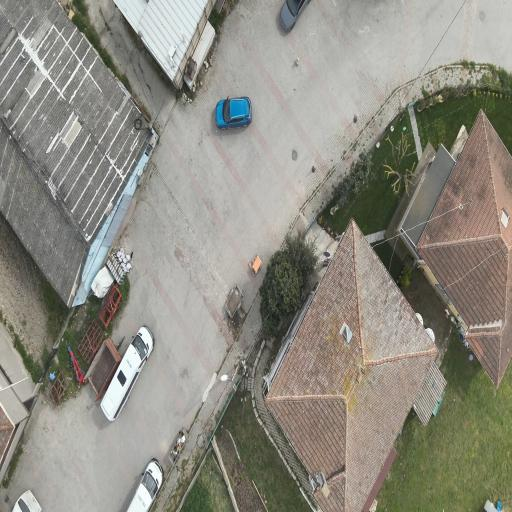car: (101, 326, 154, 421), (127, 458, 163, 511), (215, 97, 251, 129), (280, 0, 309, 31), (14, 491, 41, 511)
